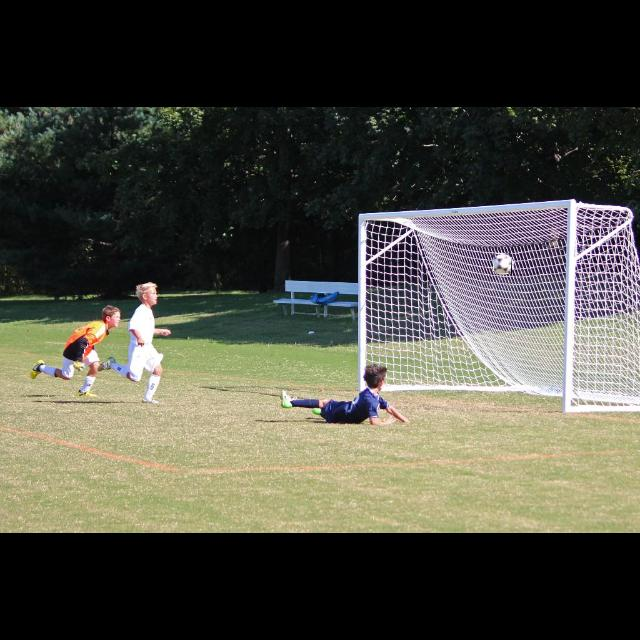Football: (494, 254, 512, 274)
